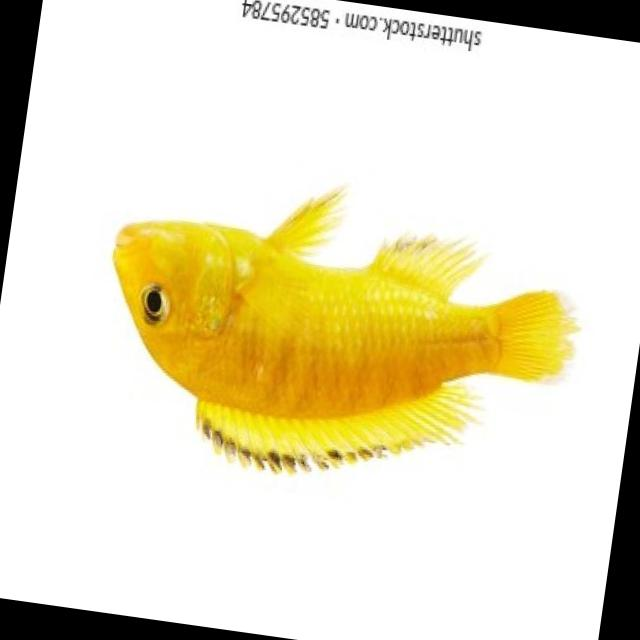YellowCichlid: (80, 178, 584, 506)
